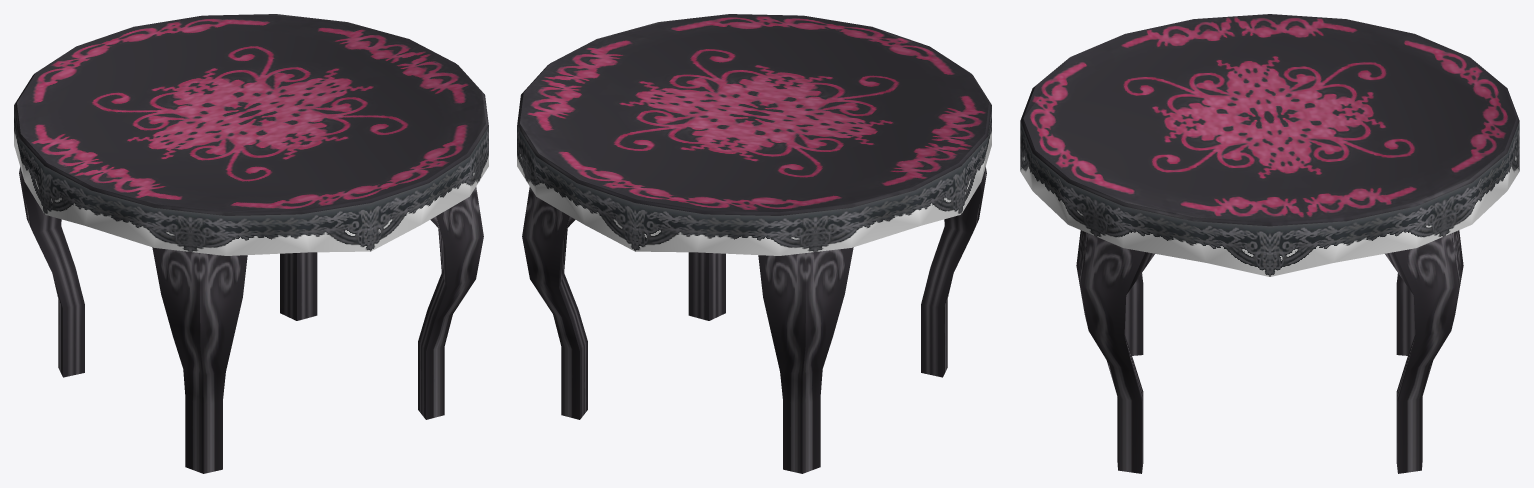
File: LingerieRoundTable_HD.fbx
3 views of the same model, side by side, from view 1: azimuth 30°, elevation 25°; view 2: azimuth 150°, elevation 25°; view 3: azimuth 270°, elevation 25° (orthographic). The views are drawn at different scales.
Parts seen in each view (by area): view 1: LingerieRoundTable; view 2: LingerieRoundTable; view 3: LingerieRoundTable.
Boxes of the visible parts, bbox=[...] form: LingerieRoundTable: bbox=[14, 14, 488, 473]; LingerieRoundTable: bbox=[517, 14, 991, 473]; LingerieRoundTable: bbox=[1020, 14, 1519, 473].
Bounding box in the file's own units: 0.941 × 0.6049 × 0.941.
